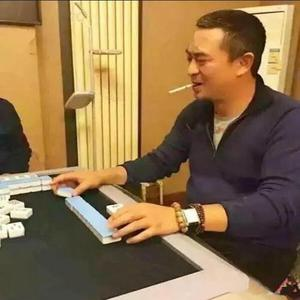cigarette: (167, 82, 199, 94)
